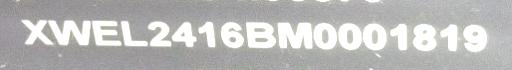letter: (47, 17, 91, 45), (274, 20, 314, 50), (18, 17, 54, 45), (244, 19, 276, 49), (90, 18, 122, 46), (117, 18, 149, 46), (218, 19, 246, 49), (410, 22, 438, 52), (461, 22, 489, 52), (170, 20, 198, 48), (311, 21, 337, 51), (336, 21, 362, 51), (146, 19, 172, 47), (361, 22, 387, 50), (196, 18, 218, 50), (438, 22, 460, 52), (390, 21, 408, 51)
